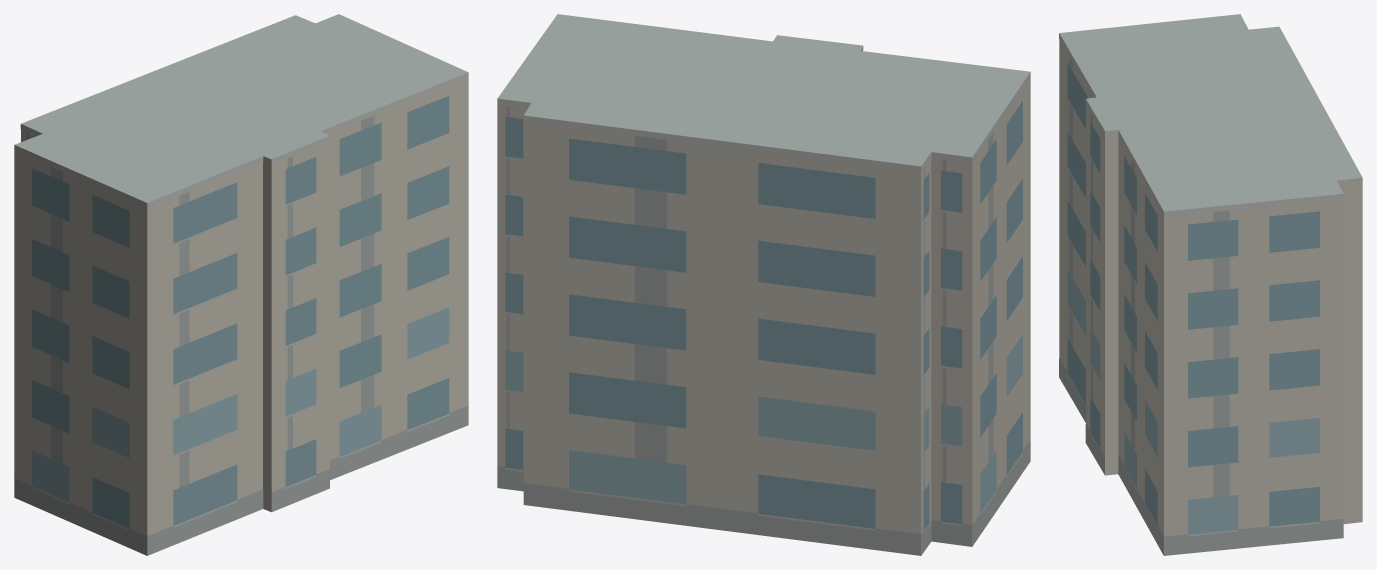
Rendered from survey-upis-32908444.glb.
The picture shows the model from 3 angles, left to right: view 1: azimuth 30°, elevation 25°; view 2: azimuth 150°, elevation 25°; view 3: azimuth 270°, elevation 25°; orthographic projection. The views are drawn at different scales.
Visible parts, largest first — view 1: survey-upis-32908444.tmp; view 2: survey-upis-32908444.tmp; view 3: survey-upis-32908444.tmp.
Boxes of the visible parts, x1,y1,x2,y2 form: survey-upis-32908444.tmp: (14,14,468,555); survey-upis-32908444.tmp: (497,14,1030,555); survey-upis-32908444.tmp: (1059,14,1362,555).
Size of the model in its own units: 18.77 by 15.25 by 12.19.
